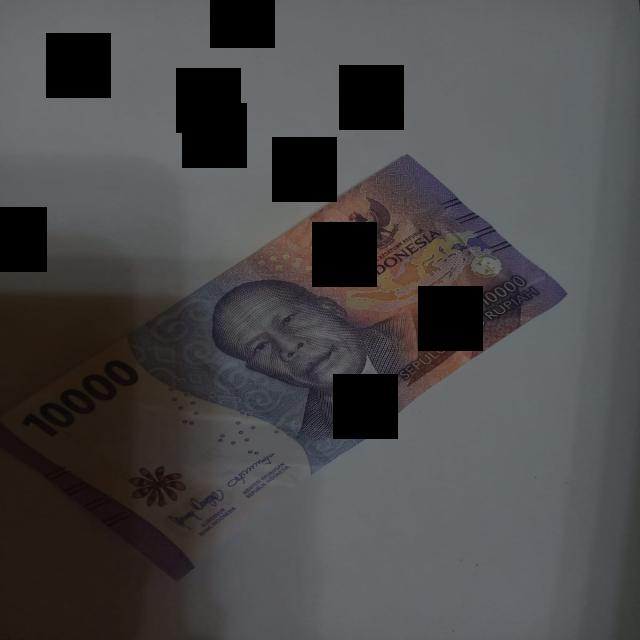sepuluhribu rupiah: (3, 156, 565, 577)
